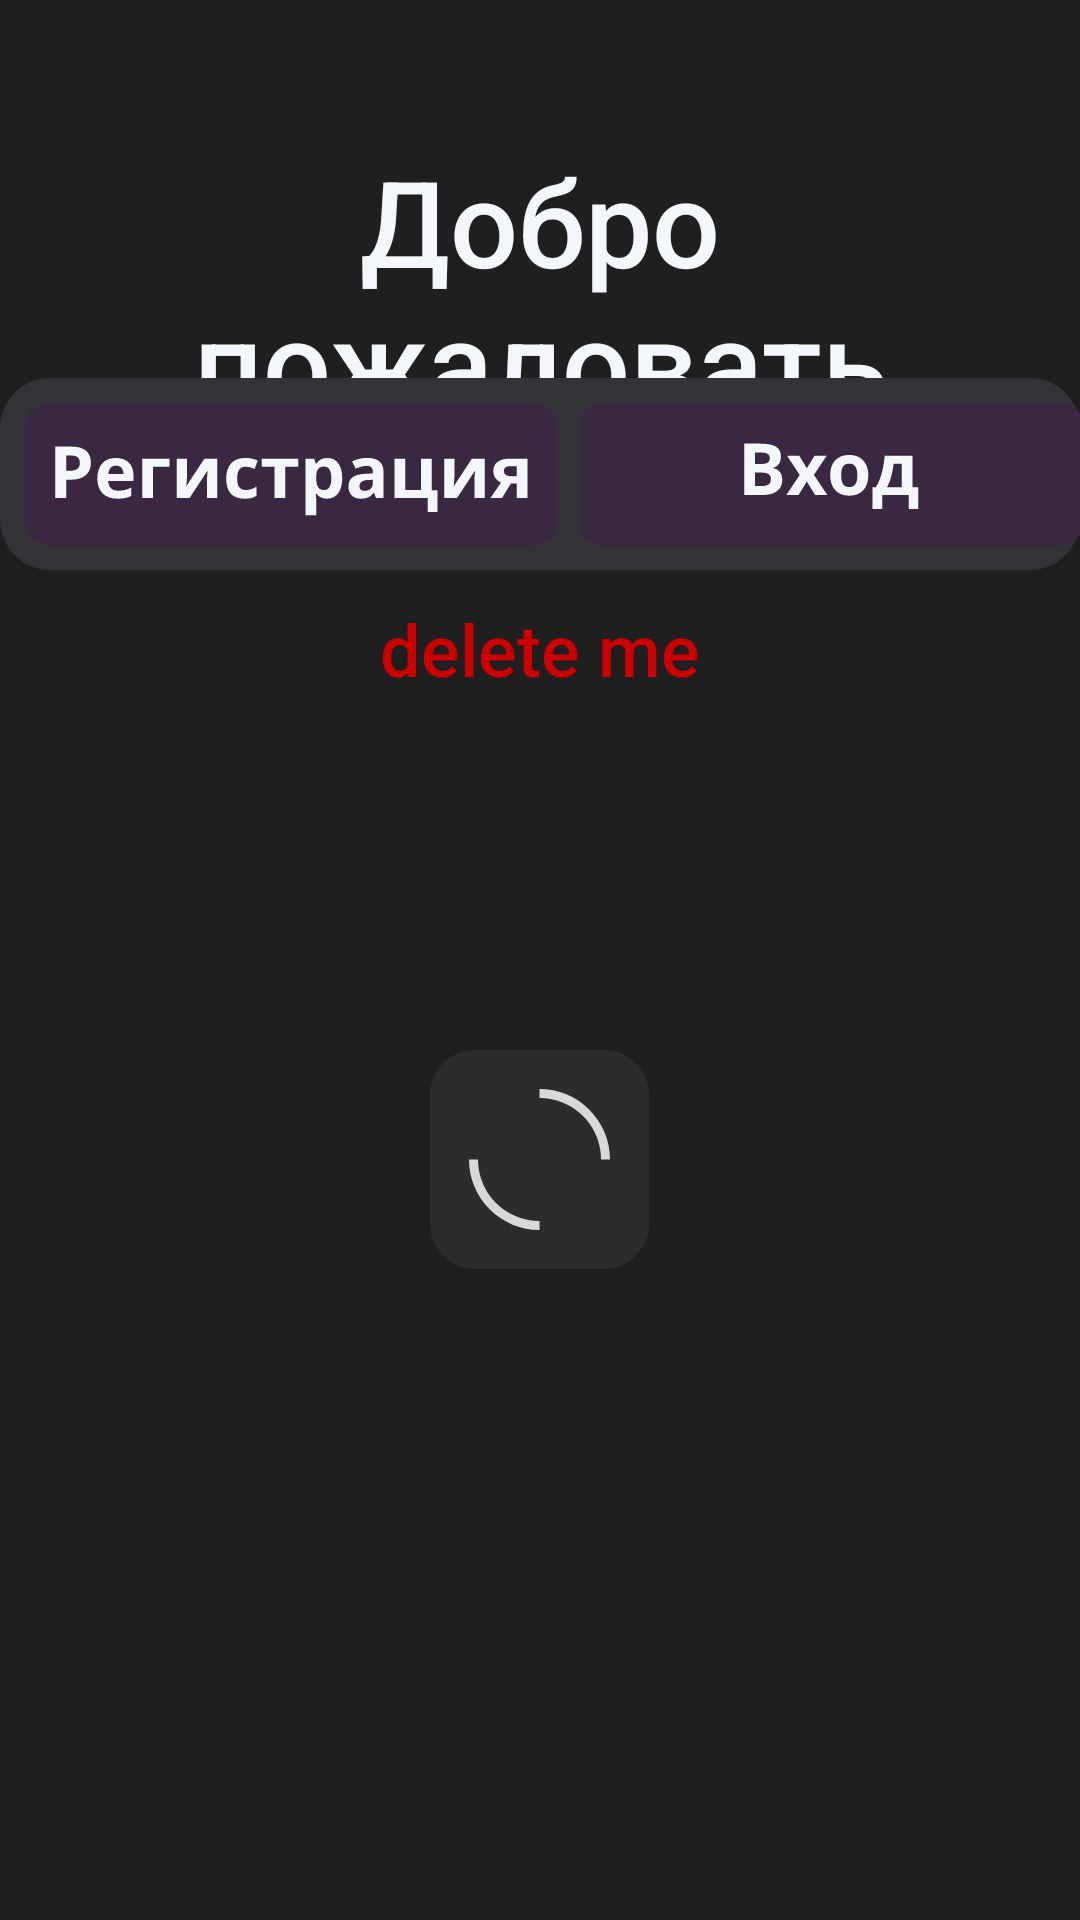

Point at icon controls on the screen. Image size 1080*1920, points as (x=x, y=y).
loading anim: (x=539, y=1159)
